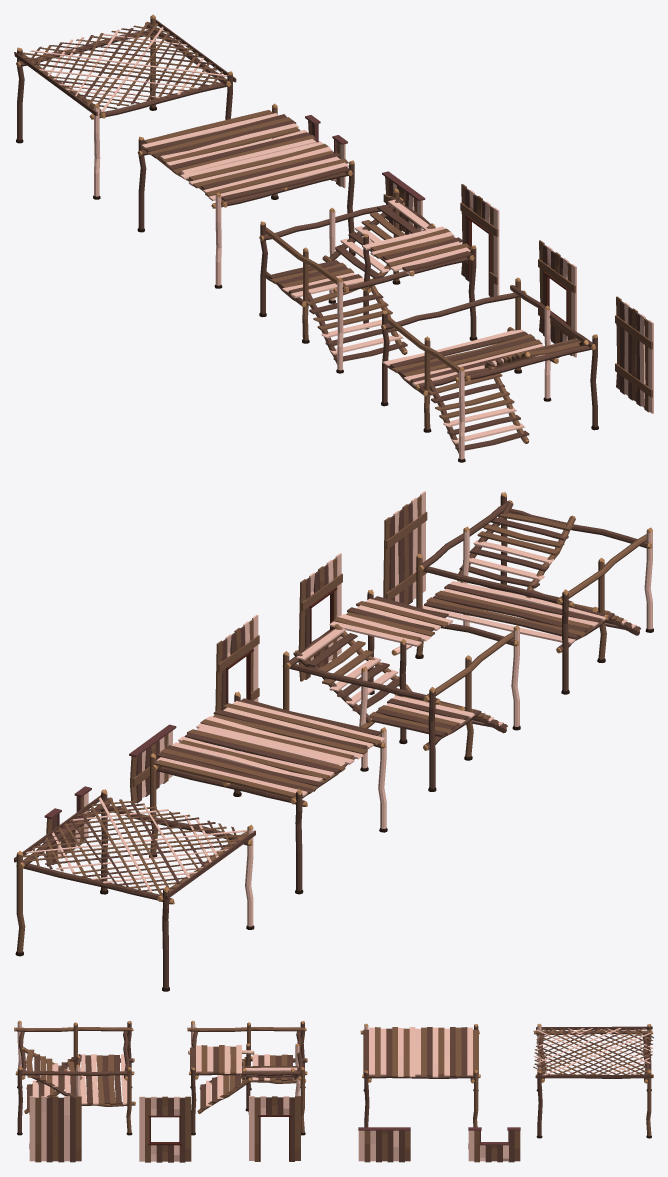
Rendered from PirateBuildingPreset.fbx.
3 views of the same model, one above another, from view 1: azimuth 30°, elevation 25°; view 2: azimuth 150°, elevation 25°; view 3: azimuth 270°, elevation 25° (orthographic). The views are drawn at different scales.
Parts seen in each view (by area): view 1: Cube.002, Cube.001, Cube.003, Cube.009, Cube.004, Cube.005, Cube.006, Cube.007; view 2: Cube.001, Cube.003, Cube.002, Cube.009, Cube.004, Cube.005, Cube.006, Cube.007, Cube.008; view 3: Cube.001, Cube.003, Cube.002, Cube.009, Cube.004, Cube.005, Cube.006, Cube.007, Cube.008.
Boxes of the visible parts, left/top/right/bottom form: Cube.002: left=259, top=188, right=477, bottom=373; Cube.001: left=381, top=277, right=598, bottom=462; Cube.003: left=137, top=103, right=355, bottom=288; Cube.009: left=14, top=14, right=236, bottom=199; Cube.004: left=615, top=296, right=653, bottom=413; Cube.005: left=538, top=240, right=576, bottom=357; Cube.006: left=460, top=184, right=499, bottom=296; Cube.007: left=382, top=171, right=425, bottom=234; Cube.001: left=415, top=492, right=653, bottom=694; Cube.003: left=149, top=691, right=387, bottom=894; Cube.002: left=282, top=589, right=520, bottom=791; Cube.009: left=14, top=789, right=255, bottom=991; Cube.004: left=383, top=491, right=427, bottom=604; Cube.005: left=298, top=553, right=342, bottom=681; Cube.006: left=215, top=614, right=259, bottom=710; Cube.007: left=129, top=724, right=176, bottom=804; Cube.008: left=44, top=786, right=91, bottom=866; Cube.001: left=14, top=1020, right=135, bottom=1135; Cube.003: left=360, top=1023, right=480, bottom=1127; Cube.002: left=187, top=1020, right=307, bottom=1135; Cube.009: left=533, top=1023, right=653, bottom=1138; Cube.004: left=29, top=1096, right=81, bottom=1162; Cube.005: left=139, top=1096, right=191, bottom=1162; Cube.006: left=248, top=1096, right=300, bottom=1161; Cube.007: left=358, top=1127, right=410, bottom=1162; Cube.008: left=468, top=1127, right=520, bottom=1162.
Bounding box in the file's own units: 294 × 138 × 1108.
